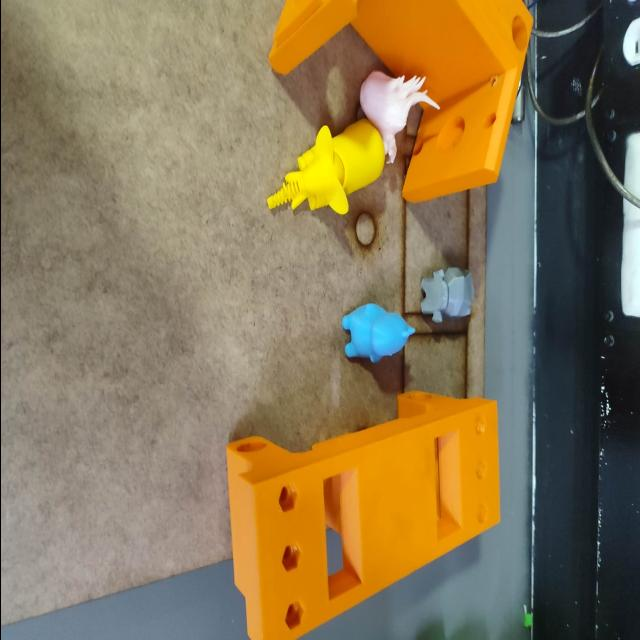DINO: (332, 293, 419, 375)
